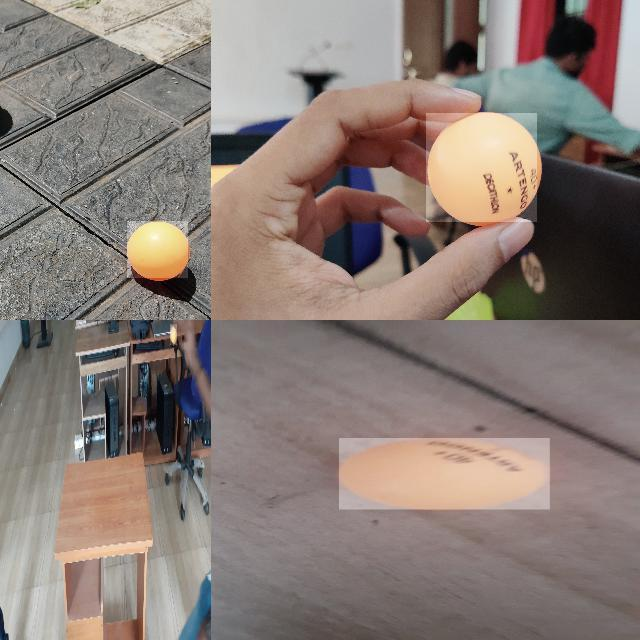ping-pong-ball: (338, 438, 552, 510), (426, 112, 538, 224), (126, 220, 190, 280), (170, 324, 177, 346)
